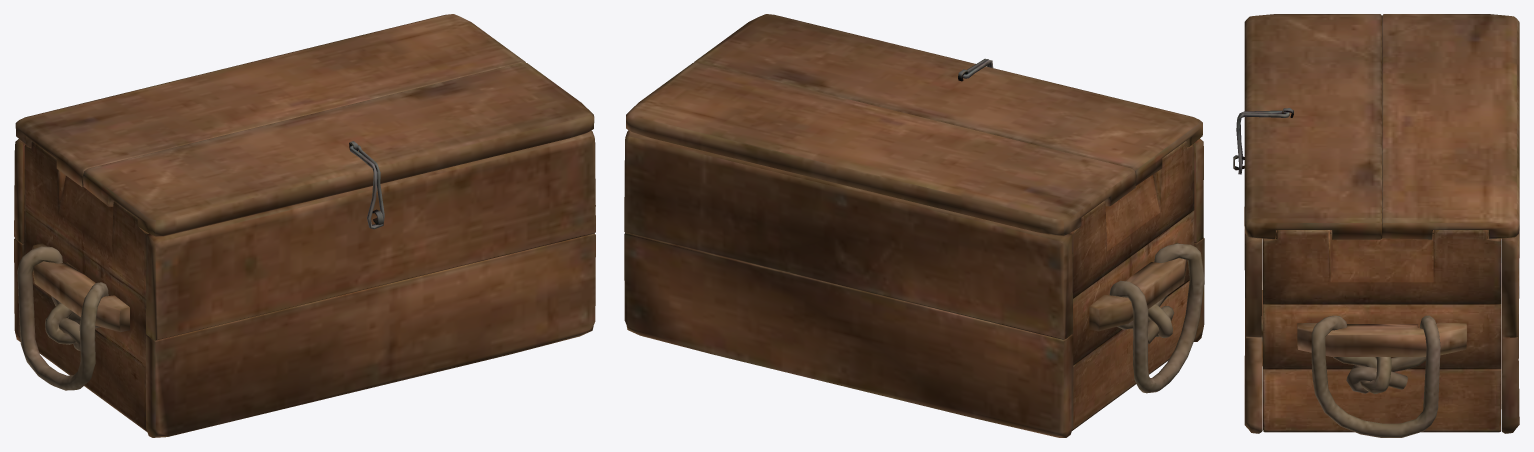
Rendered from wooden_crate_01.glb.
3 views of the same model, side by side, from view 1: azimuth 30°, elevation 25°; view 2: azimuth 150°, elevation 25°; view 3: azimuth 270°, elevation 25° (orthographic). The views are drawn at different scales.
Visible parts, largest first — view 1: mesh; view 2: mesh; view 3: mesh.
Boxes of the visible parts, box(x1,y1,x2,y2) form: mesh: box(14, 14, 595, 437); mesh: box(624, 14, 1204, 437); mesh: box(1233, 14, 1519, 437).
Size of the model in its own units: 0.8245 by 0.3483 by 0.4071.
Materials: 1 (1 with a texture image).
